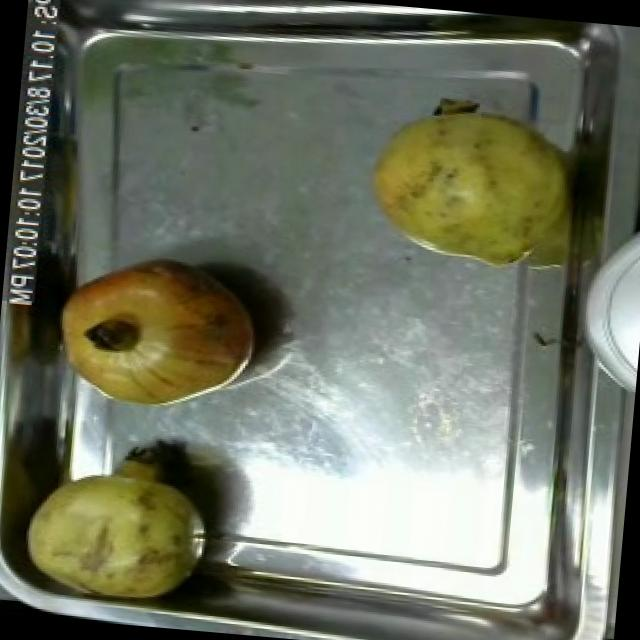fruit: (350, 80, 583, 284), (46, 247, 270, 423), (11, 447, 228, 618)
